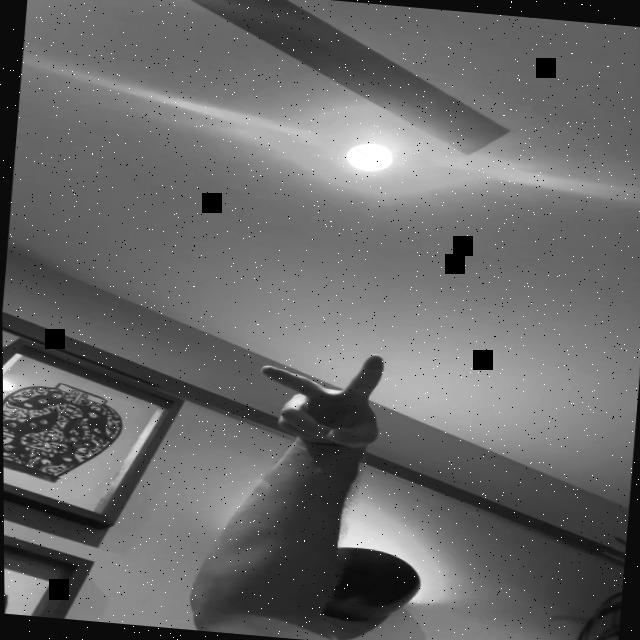Scissors: (252, 343, 385, 450)
